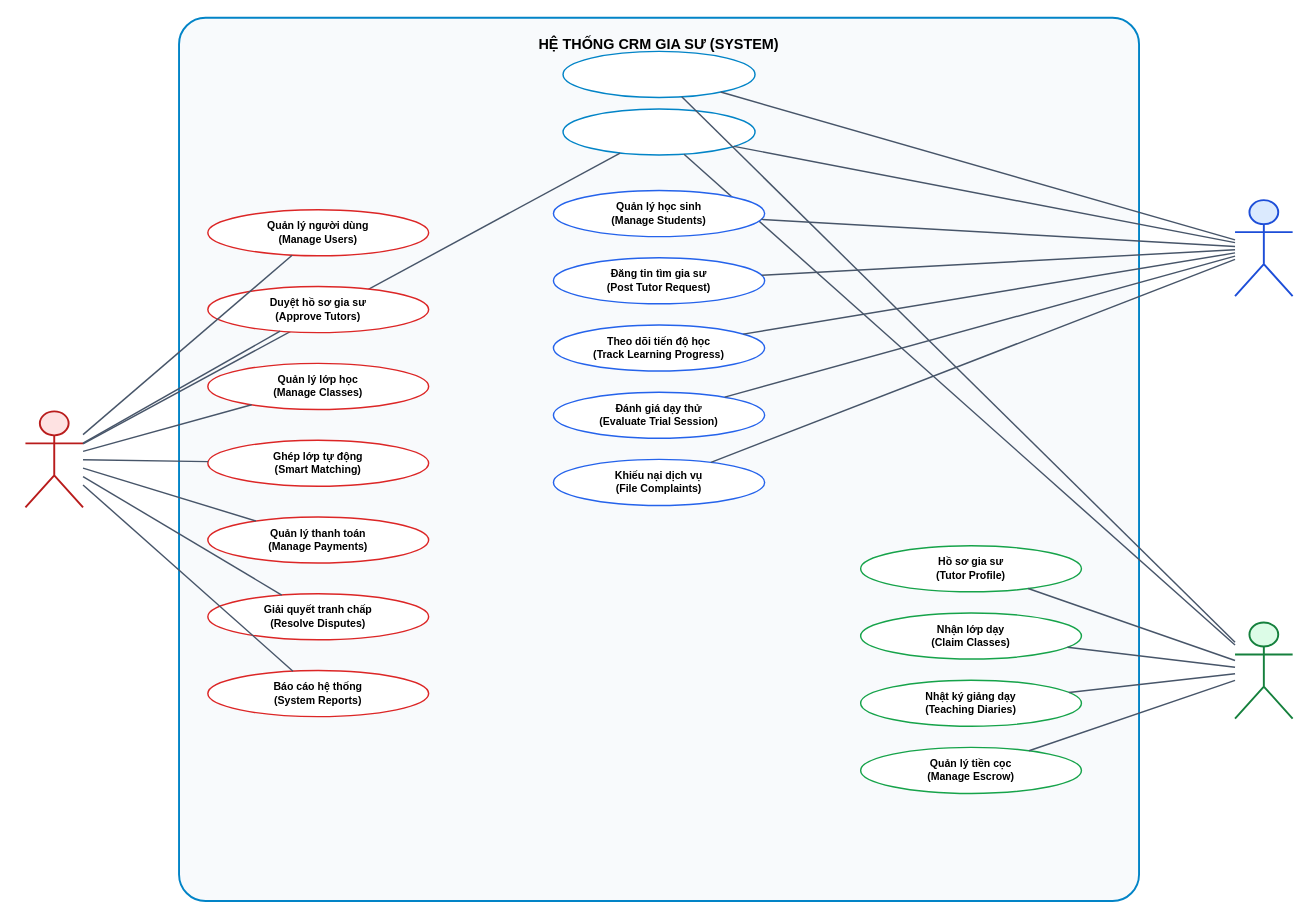
The diagram is 1312 pixels wide and 918 high, and some of its shapes have lost their labels. Each missing label, with the centre of its shape:
Gia sư (Tutor): point (1263, 670)
Phụ huynh (Client): point (1263, 248)
Quản trị viên (Admin): point (54, 459)
Đăng ký (Register): point (658, 74)
Đăng nhập (Login): point (658, 131)
